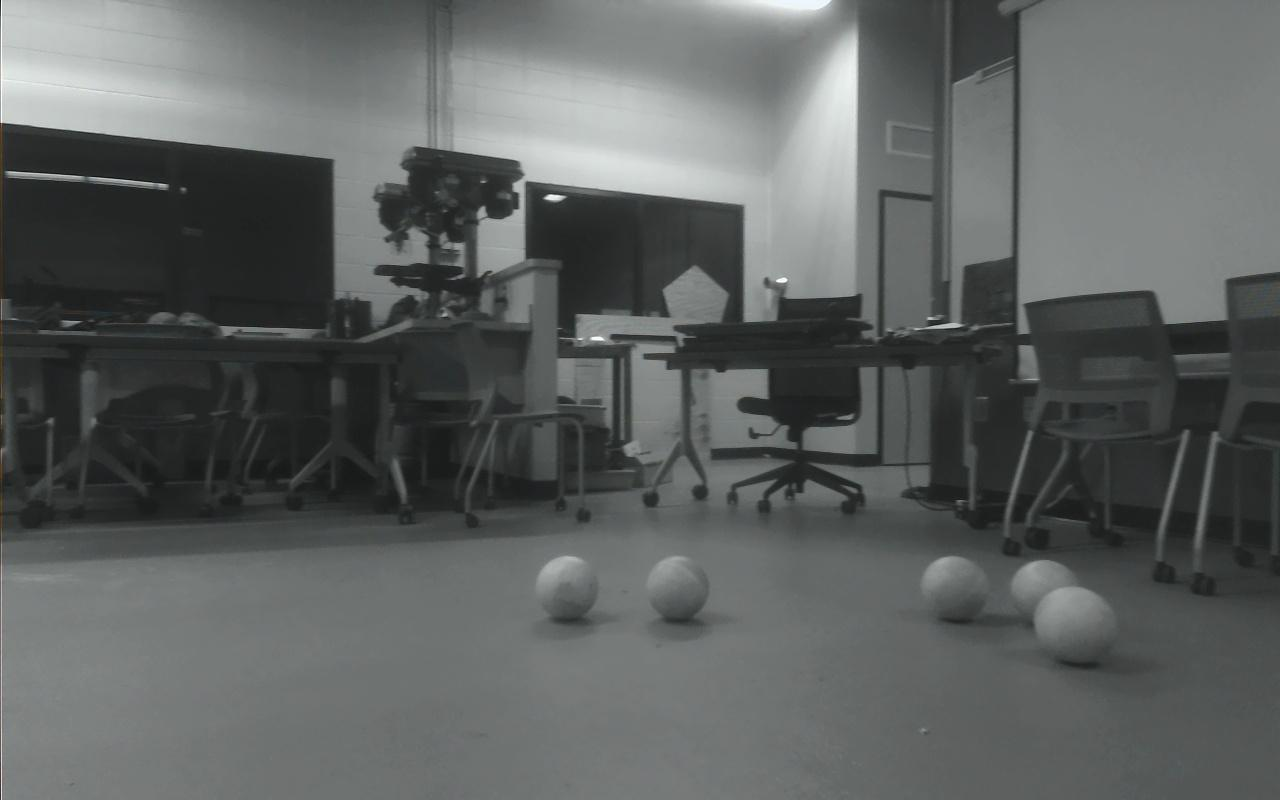Fuel: (1033, 585, 1119, 664), (1009, 559, 1082, 626), (920, 556, 989, 623), (534, 555, 600, 620), (645, 556, 710, 622)
